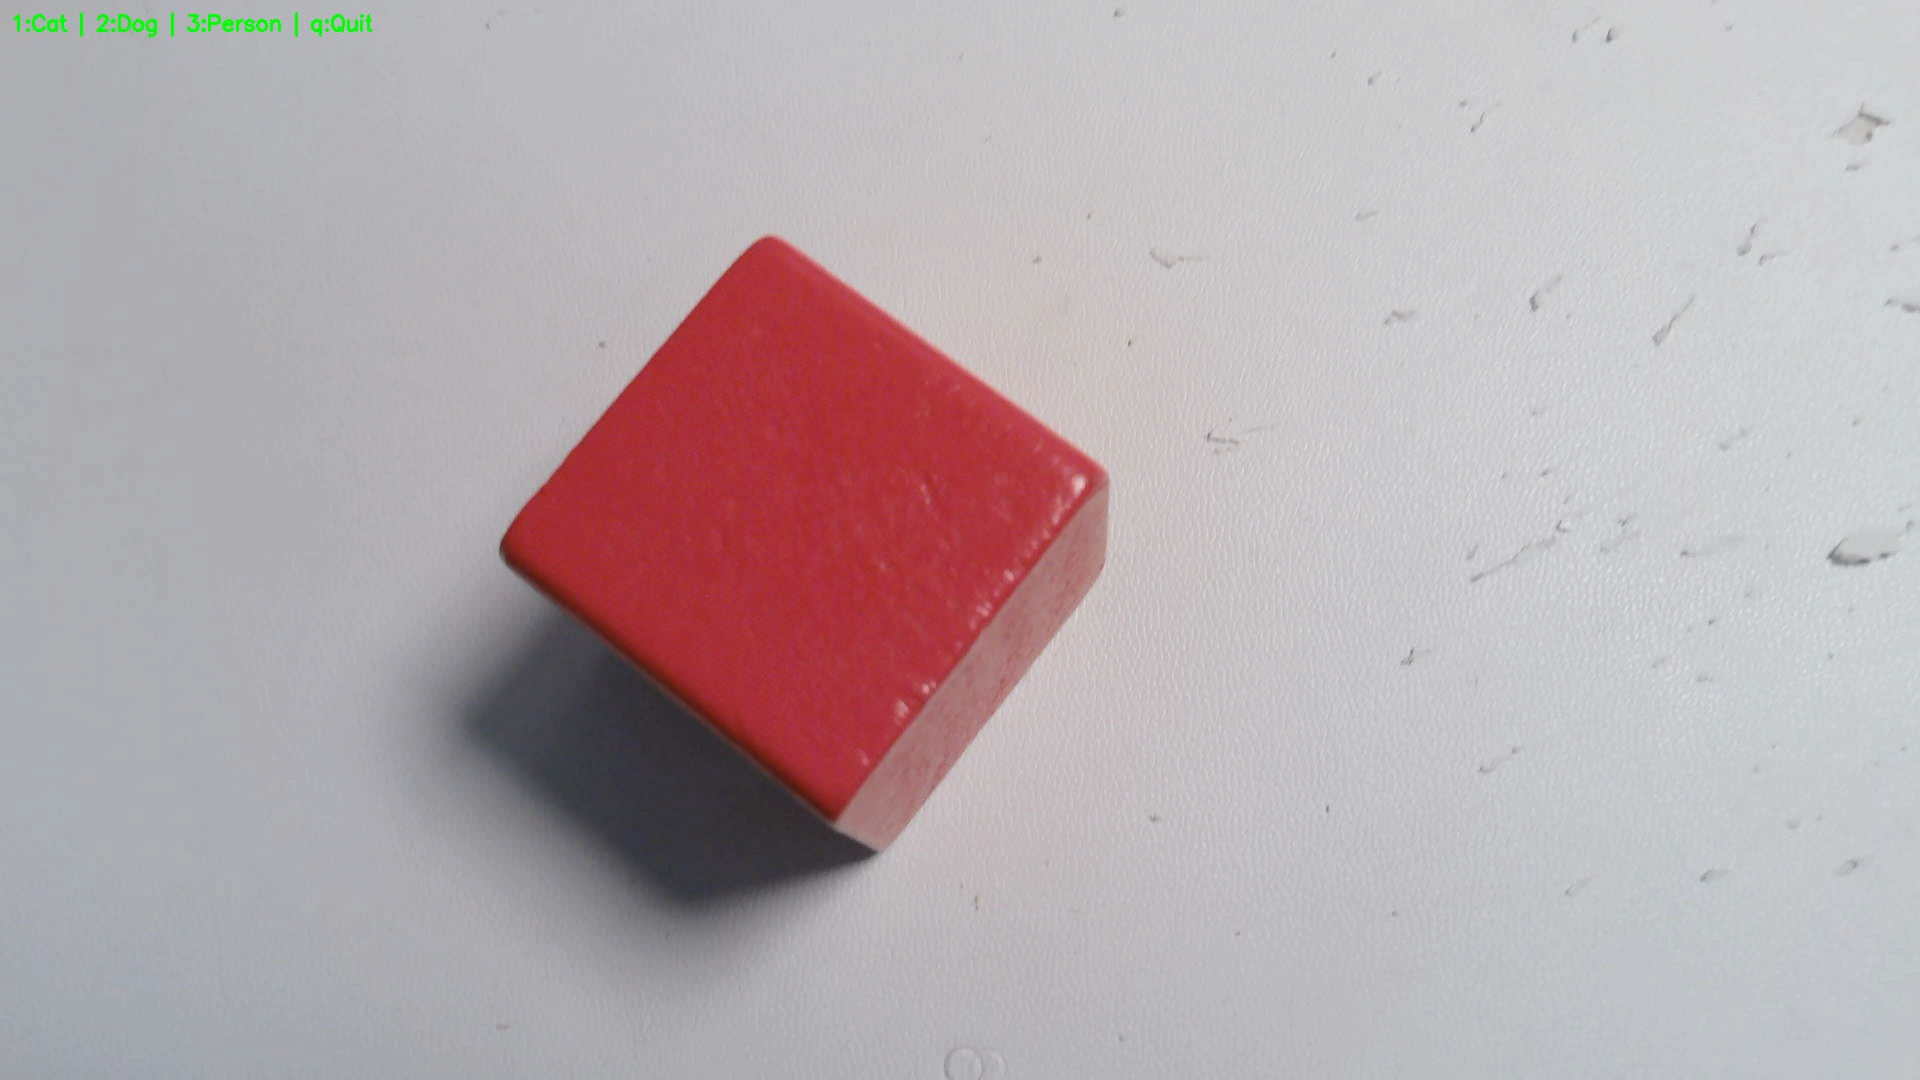red: (495, 237, 1106, 855)
